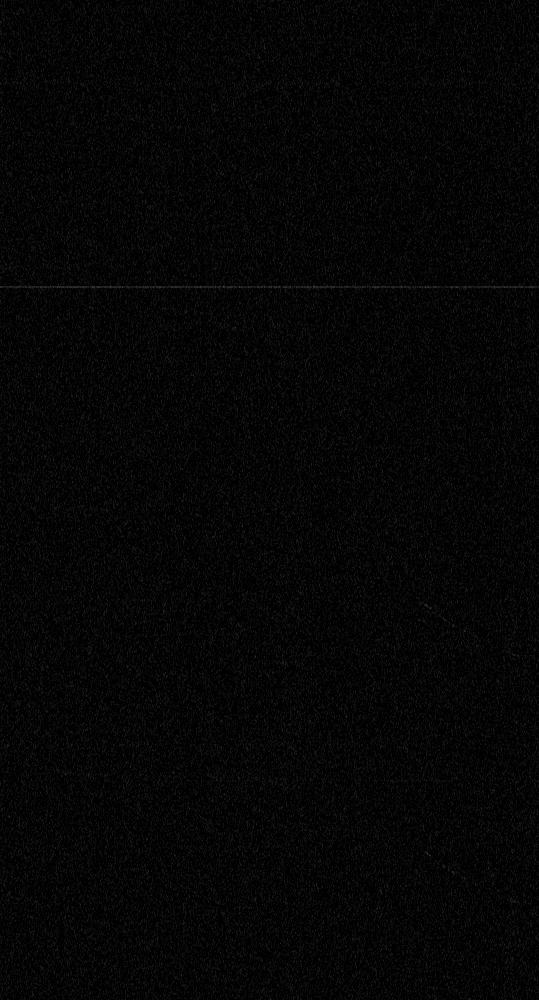signal: (0, 0, 538, 999)
